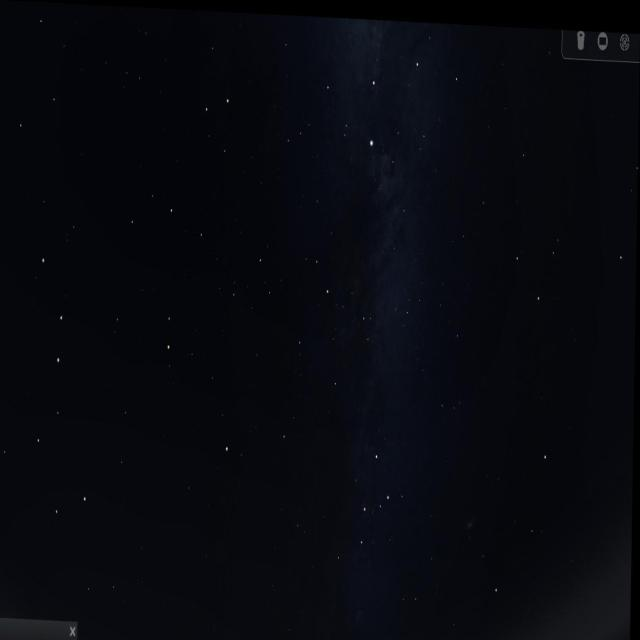cassiopeia: (322, 439, 412, 583)
cygnus: (316, 13, 425, 155)
ursa_major: (24, 250, 102, 535)
